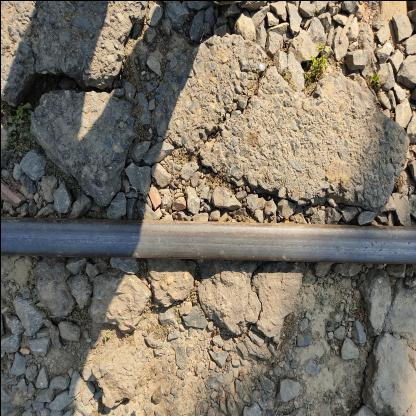Non Defective: (6, 200, 416, 267)
